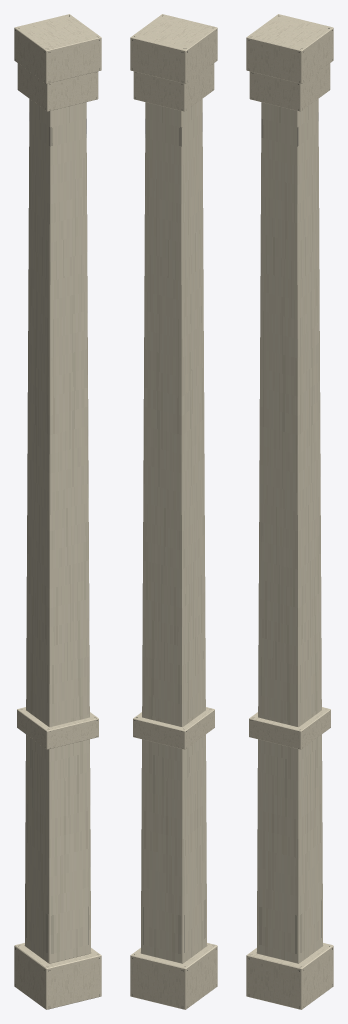
Rendered from house_02_porch_post.glb.
3 renders of one model, left to right at view 1: azimuth 30°, elevation 25°; view 2: azimuth 150°, elevation 25°; view 3: azimuth 330°, elevation 25°, orthographic.
Parts seen in each view (by area): view 1: house_02_porch_post; view 2: house_02_porch_post; view 3: house_02_porch_post.
Part boxes in pixels (x1,y1,x2,y2): house_02_porch_post: (14, 14, 101, 1009); house_02_porch_post: (130, 14, 217, 1009); house_02_porch_post: (246, 14, 333, 1009).
Size of the model in its own units: 0.14 by 2.3 by 0.14.
Materials: 2 (2 with a texture image).
